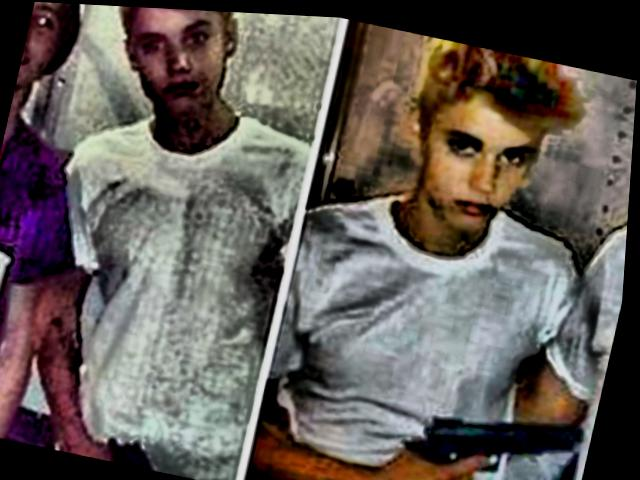pistol: (391, 380, 591, 480)
